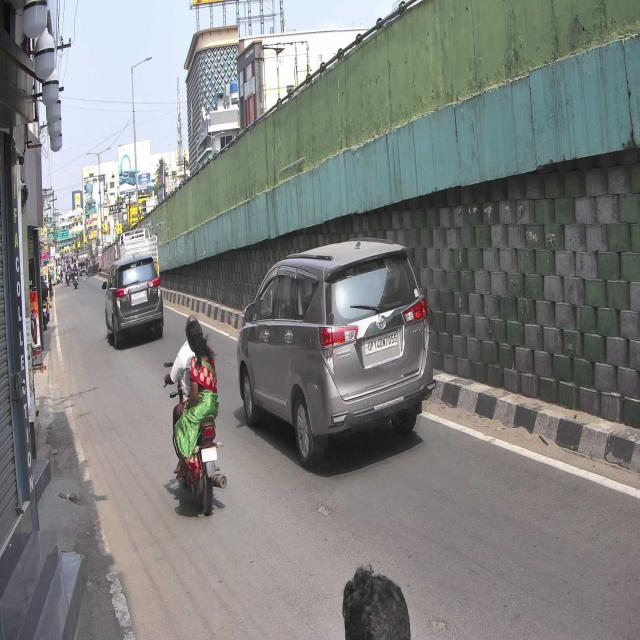double_rider: (165, 314, 226, 518)
